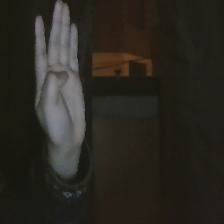B: (29, 1, 94, 150)
